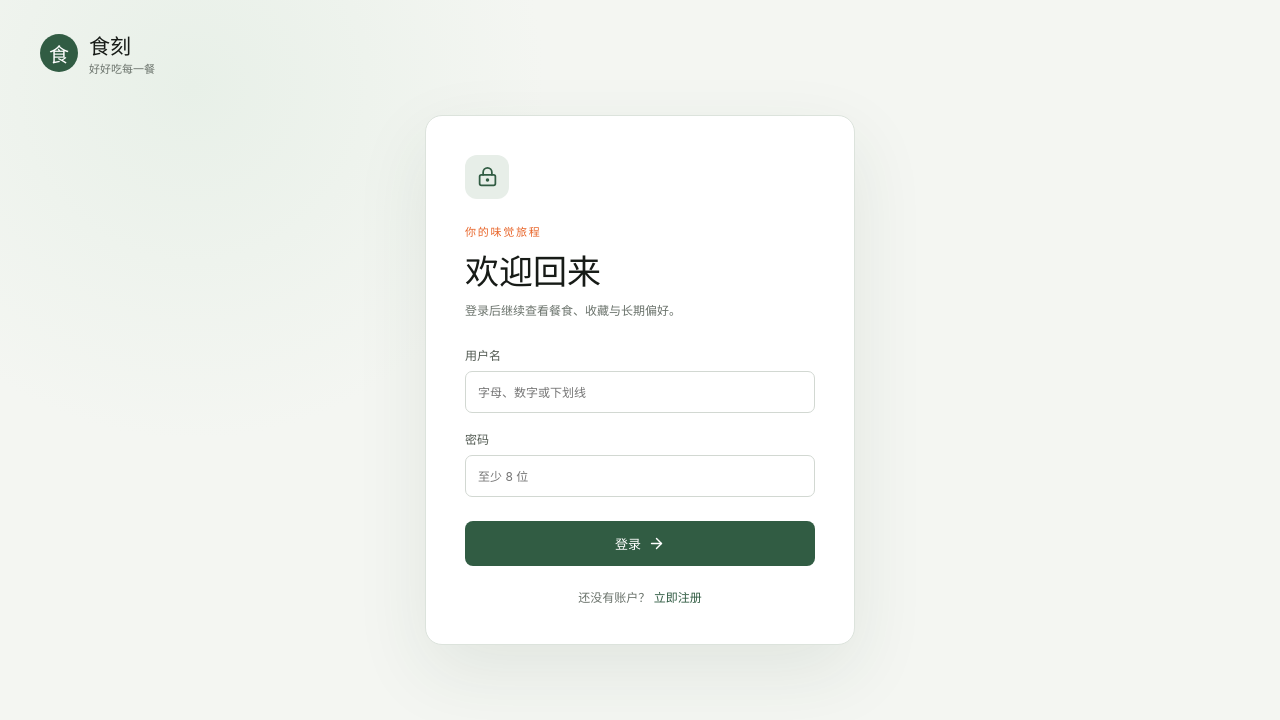
Scenario: 登录与公共库角色界面 › 未登录时先显示登录页；注册先校验确认密码，成功后保存登录态
The image size is (1280, 720).
Expected: the heading "欢迎回来" is shown, [465,254,601,291]
Expected: the heading "公共餐食" is not shown
Click the link "立即注册" at (678,598), box [654,590,702,605]
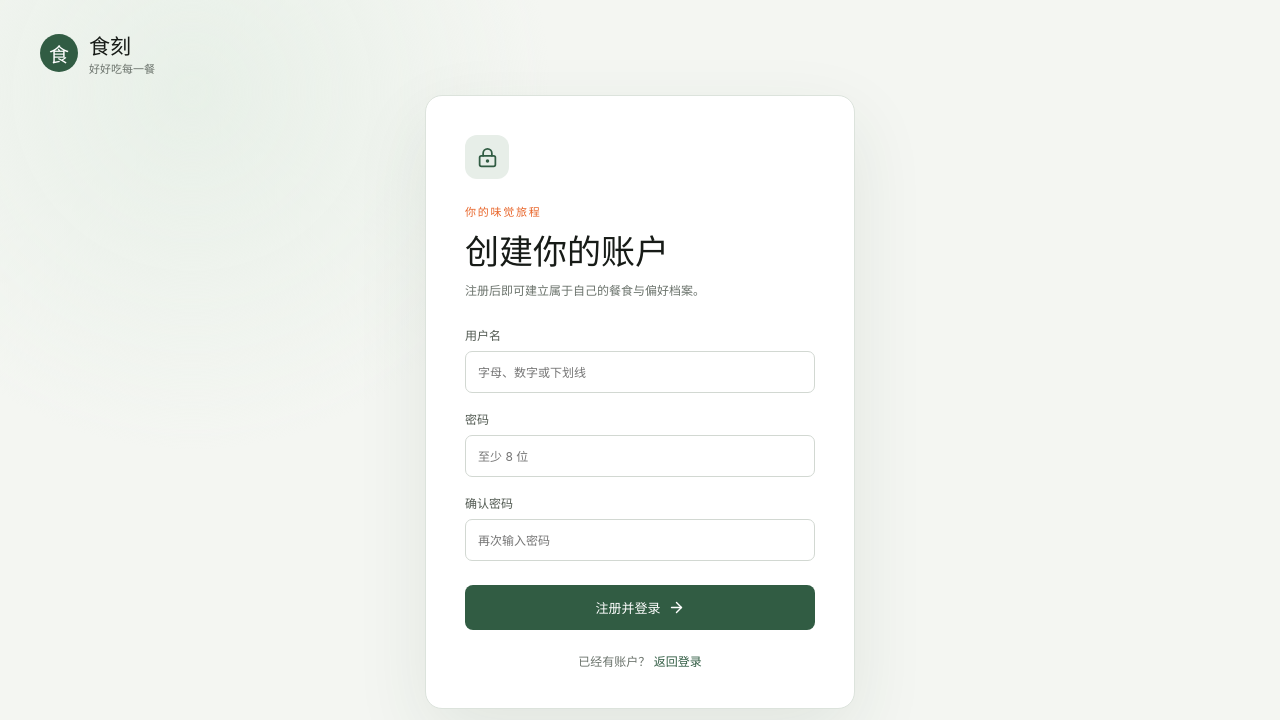
Result: the heading "创建你的账户" is shown at [465,234,669,271]
Type "new_user" into the field labelled "用户名" at (640,372), box [465,351,815,393]
Type "password123" into the password field labelled "密码" at (640,456), box [465,435,815,477]
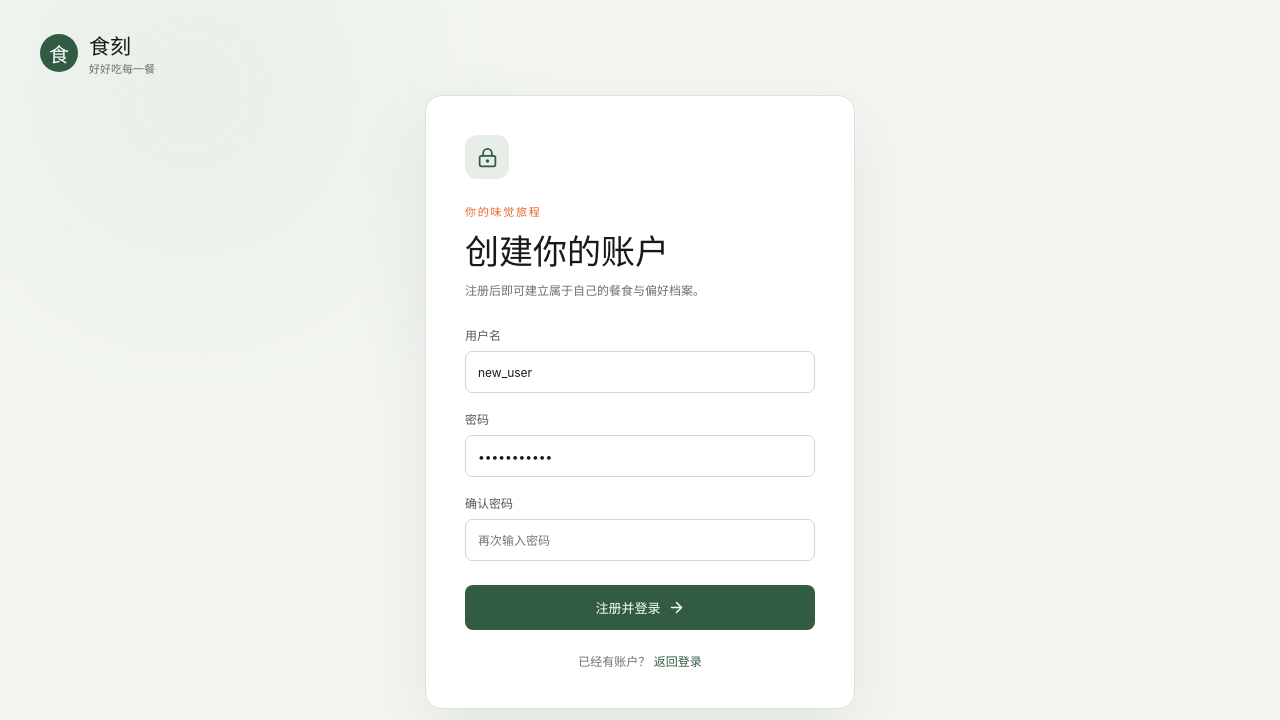
Type "not-the-same" into the password field labelled "确认密码" at (640,540), box [465,519,815,561]
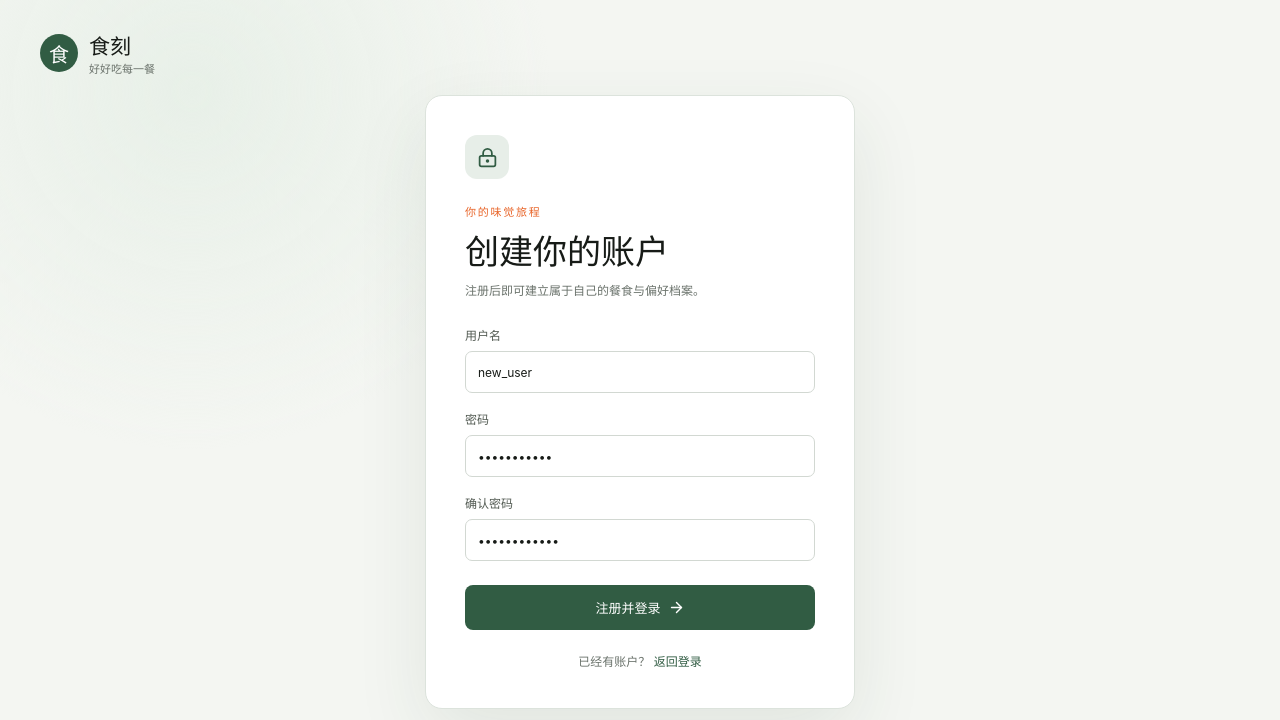
Click the button "注册并登录" at (640,608), box [465,585,815,630]
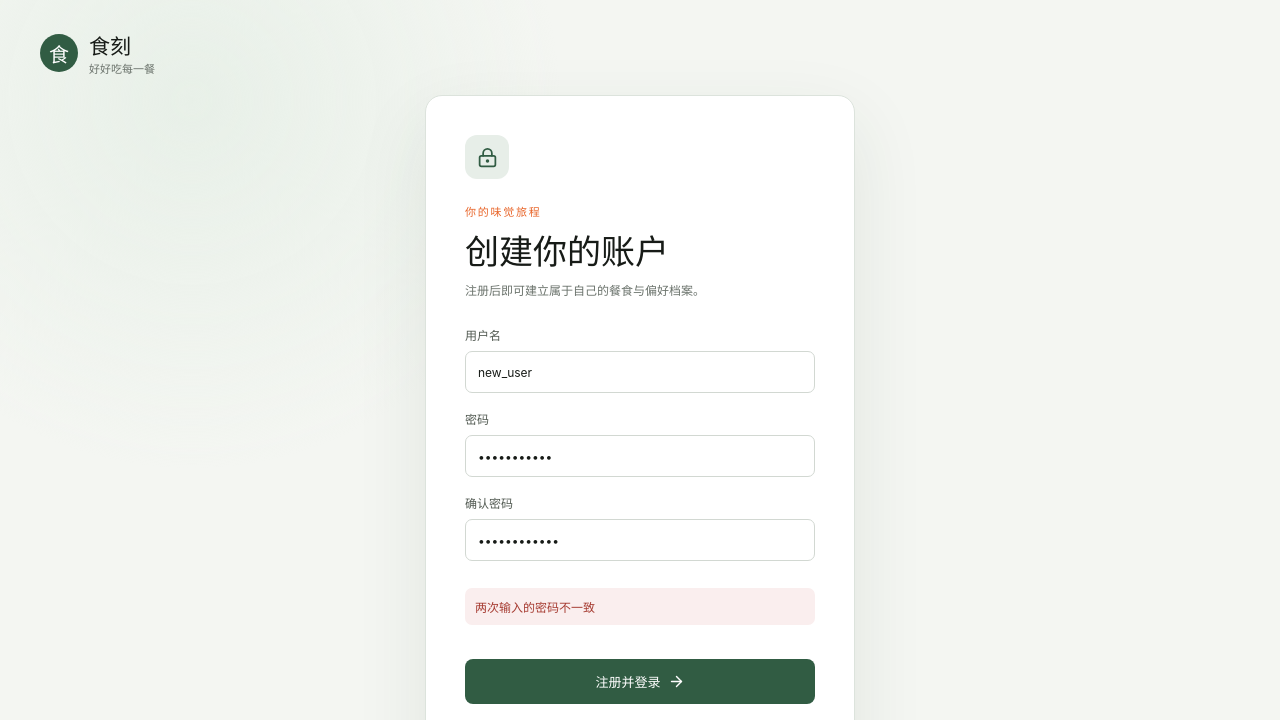
Result: the message reads "两次输入的密码不一致" at [475,600,595,615]
Type "password123" into the password field labelled "确认密码" at (640,540), box [465,519,815,561]
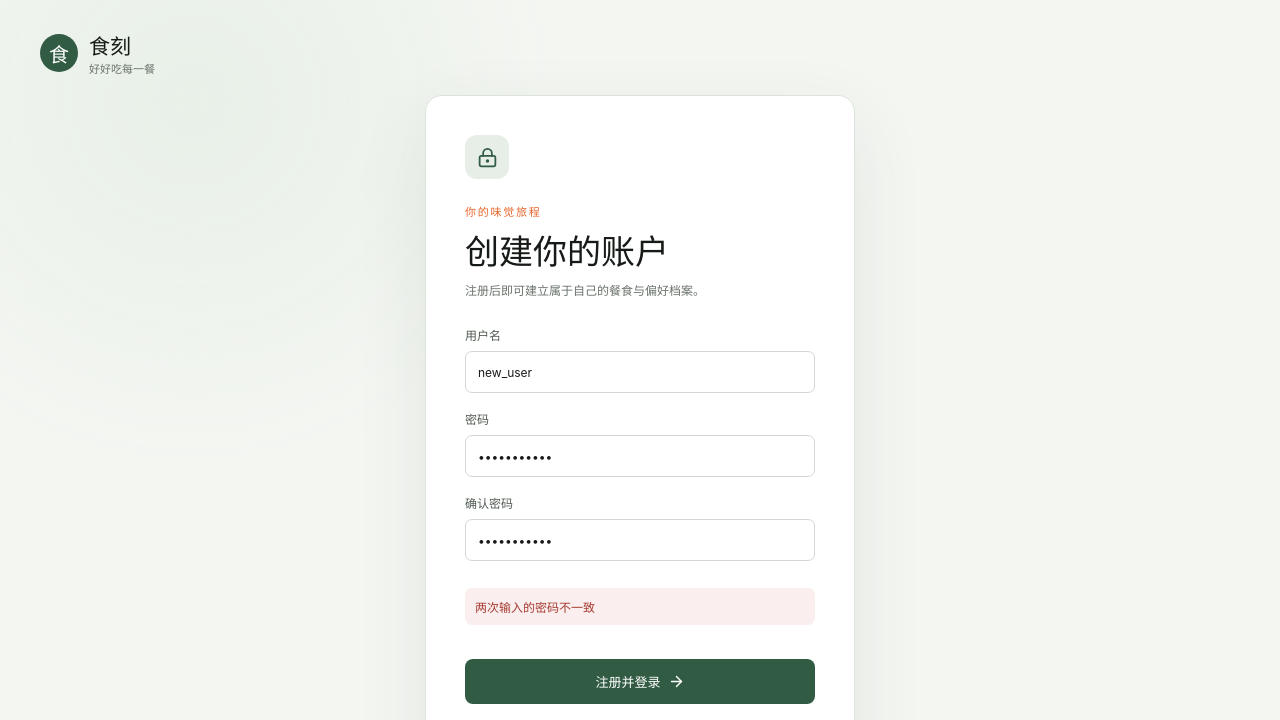
Click the button "注册并登录" at (640,682), box [465,659,815,704]
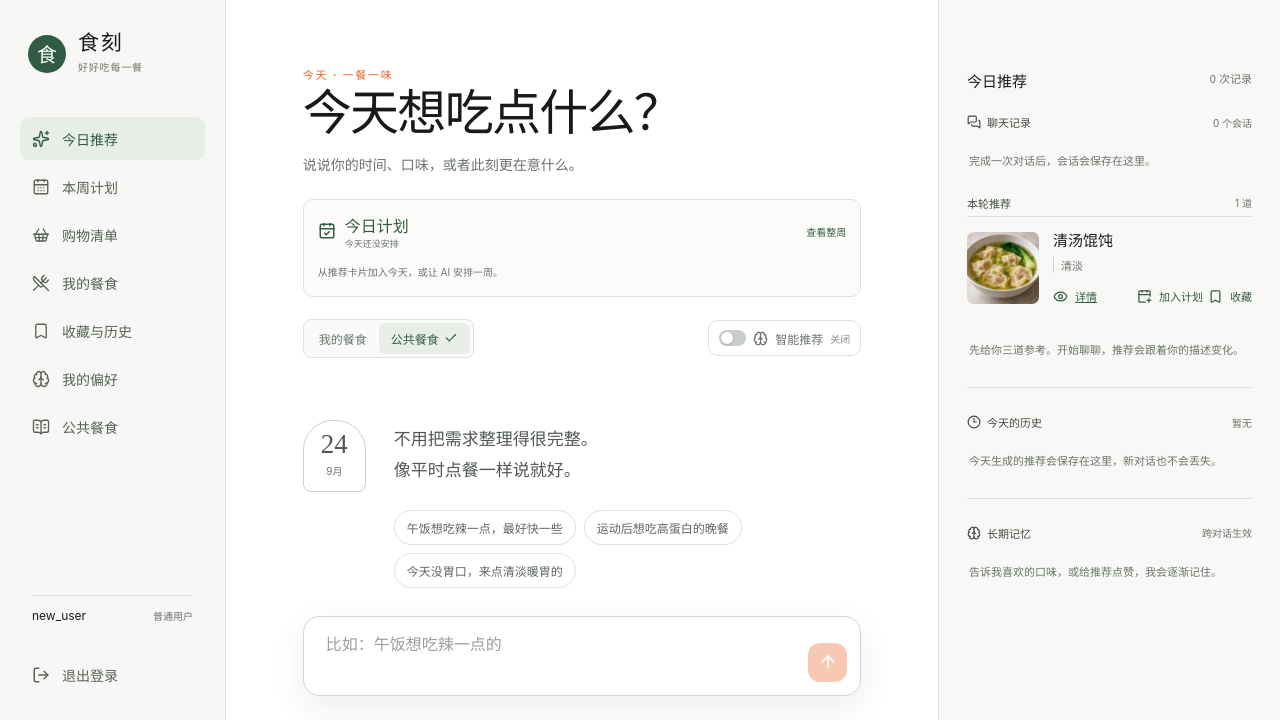
Result: the text "new_user" is shown at [32,608,86,623]
